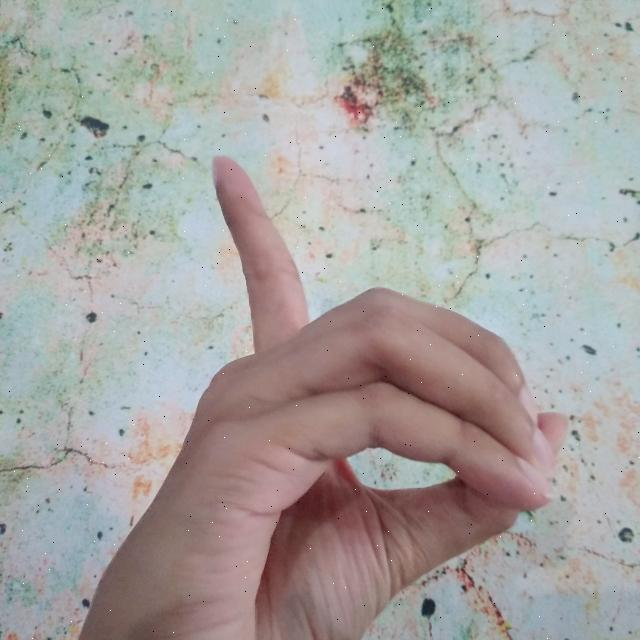D: (80, 150, 572, 640)
